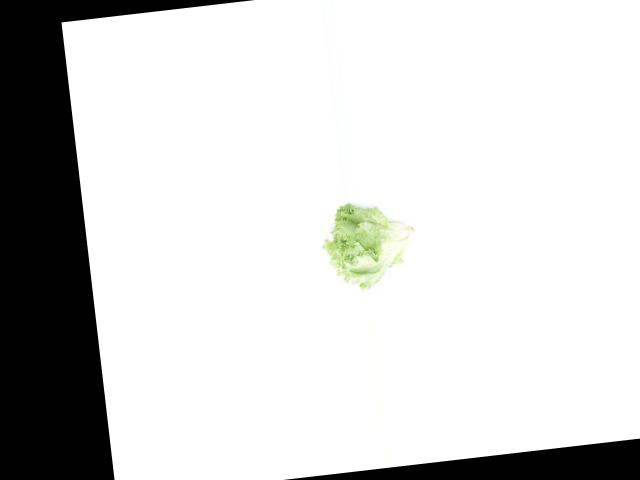lettuce: (320, 194, 421, 296)
